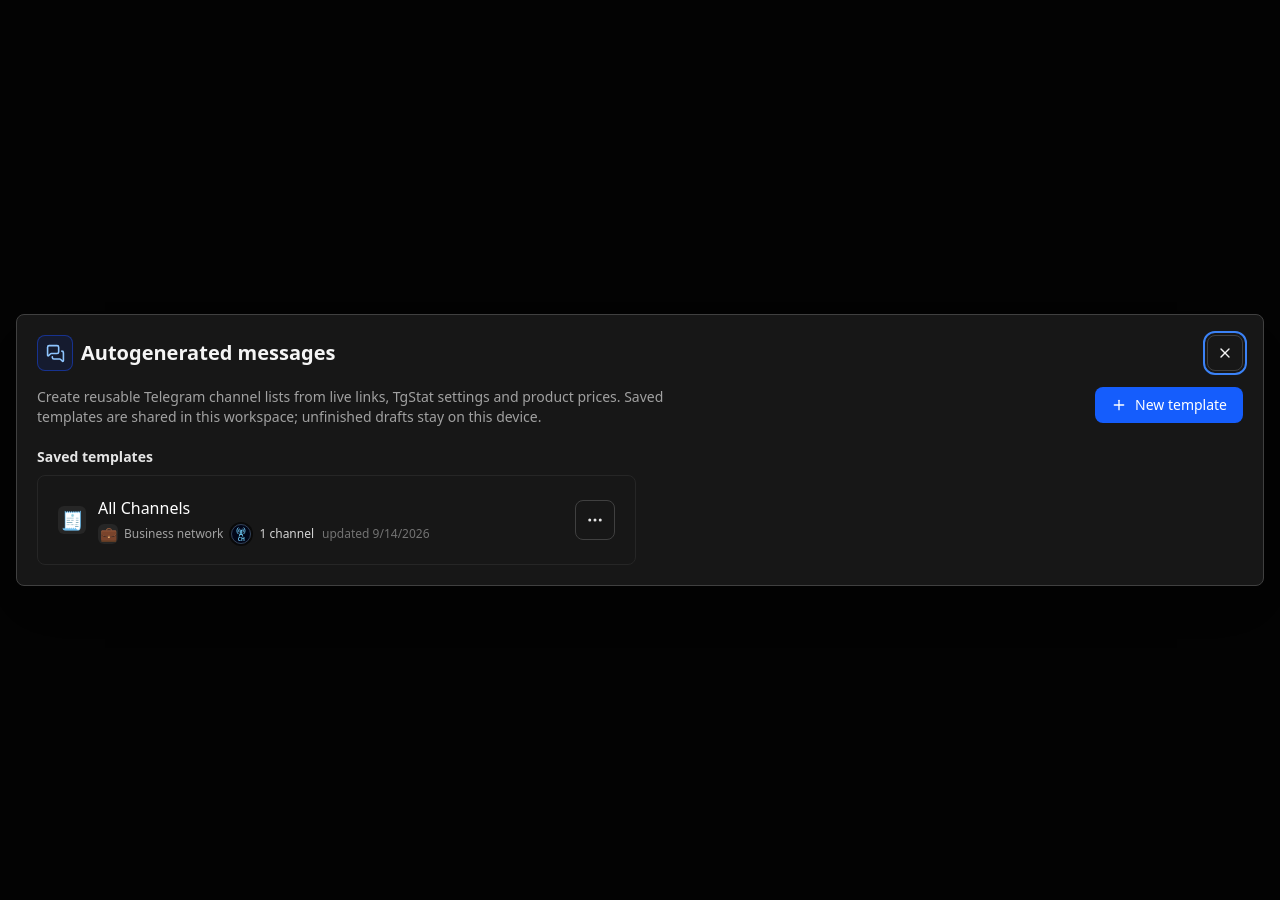
Test: TelegramChannelMessageTemplatesModal › shows a live network scope and opens its channel list above the modal
Expected: the text "Business network" is shown, 124,526 -> 224,542
Step 1. Click the button with aria-label "Show 1 template channels" → [273, 534], box 232,524 -> 314,544
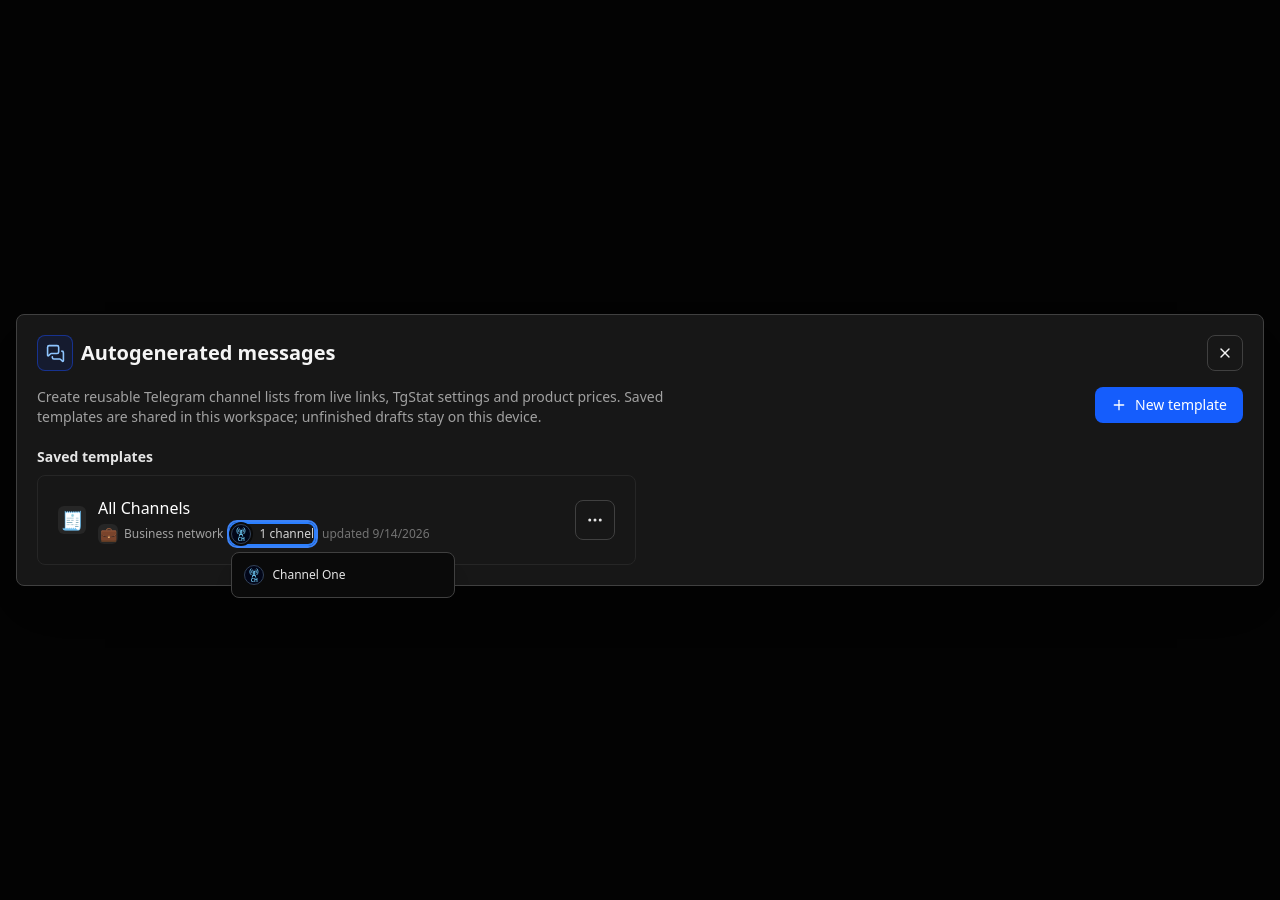
Expected: the text "Channel One" is shown, 272,567 -> 346,583
